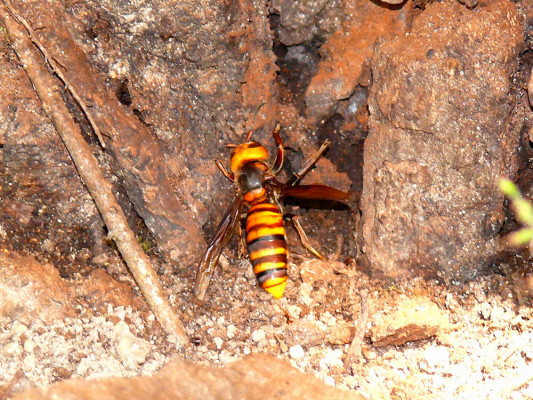asian_giant_hornet: (213, 129, 307, 300)
